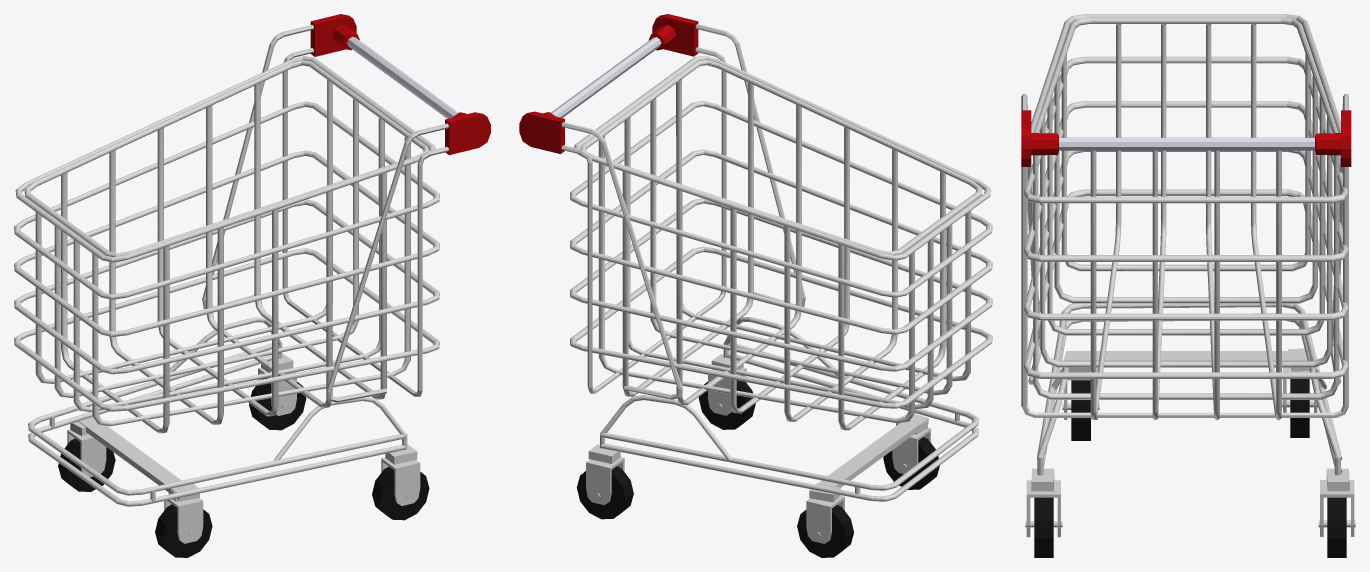
Rendered from trolley.glb.
3 renders of one model, left to right at view 1: azimuth 30°, elevation 25°; view 2: azimuth 150°, elevation 25°; view 3: azimuth 270°, elevation 25°, orthographic. The views are drawn at different scales.
Visible parts, largest first — view 1: trolley, wheel, wheel 2, castor bracket2, wheel4, castor bracket 4, wheel3, castor bracket 3, castor bracket 1; view 2: trolley, wheel4, wheel3, castor bracket 1, castor bracket 3, wheel 2, wheel, castor bracket 4, castor bracket2; view 3: trolley, wheel 2, wheel4, wheel, wheel3, castor bracket2, castor bracket 1.
Boxes of the visible parts, x1,y1,x2,y2 form: trolley: (14,14,490,506); wheel: (155,504,212,557); wheel 2: (372,467,429,520); castor bracket2: (381,457,420,505); wheel4: (249,377,306,430); castor bracket 4: (164,498,203,543); wheel3: (58,438,115,491); castor bracket 3: (67,429,106,477); castor bracket 1: (258,367,296,415); trolley: (519,14,992,502); wheel4: (576,466,633,519); wheel3: (797,505,853,557); castor bracket 1: (586,457,624,504); castor bracket 3: (806,495,844,543); wheel 2: (698,380,755,429); wheel: (883,437,939,489); castor bracket 4: (892,428,930,474); castor bracket2: (708,367,746,415); trolley: (1021,14,1351,491); wheel 2: (1034,497,1053,557); wheel4: (1327,497,1346,557); wheel: (1071,380,1090,440); wheel3: (1290,379,1309,437); castor bracket2: (1026,480,1060,537); castor bracket 1: (1320,480,1354,536).
Bounding box in the file's own units: 3.24 × 3.34 × 2.16.
